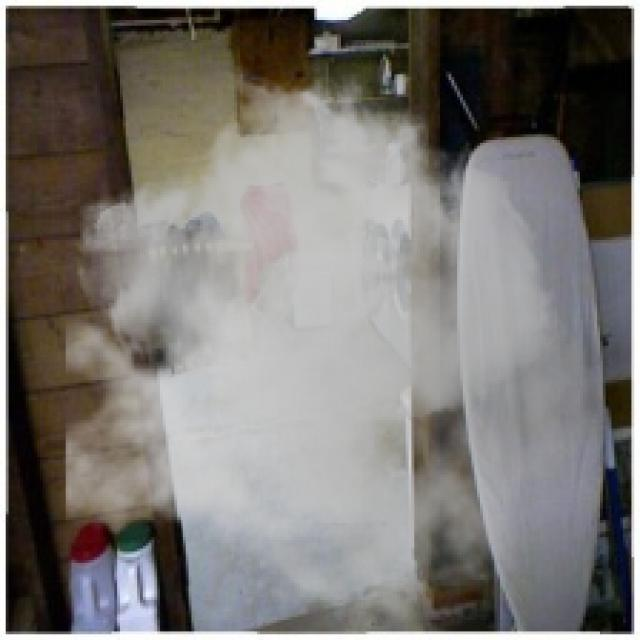Smoke: (65, 62, 598, 628)
